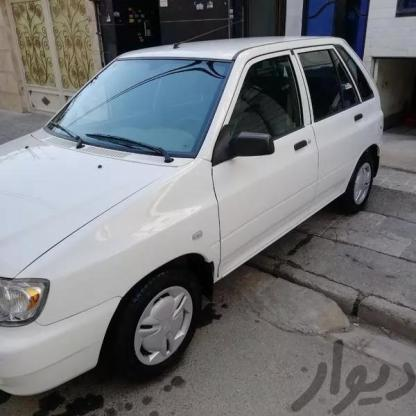Car: (0, 32, 388, 390)
